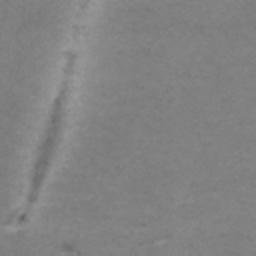Finishing roll printing: (27, 50, 79, 204), (17, 212, 31, 224)
